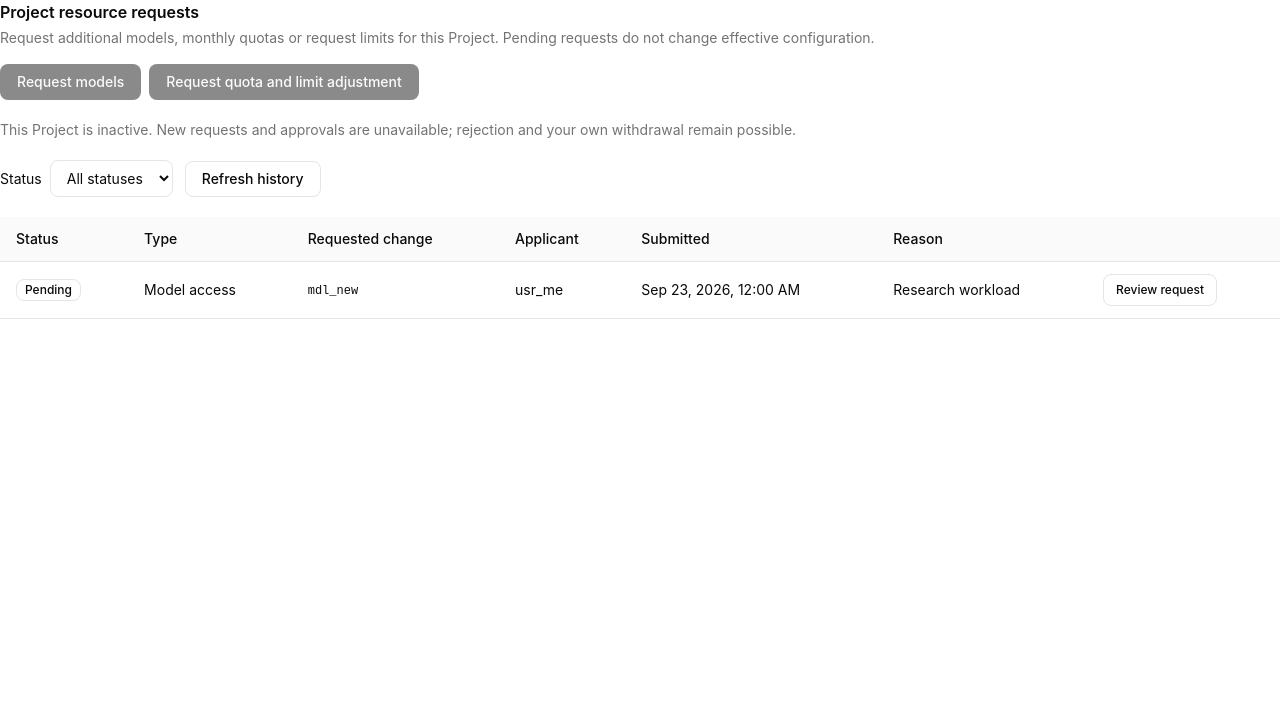
Test: Project model requests › prevents self approval and permits own withdrawal on an inactive Project
The image size is (1280, 720).
Click the button "Review request".
click(1160, 290)  # box [1103,274,1217,306]
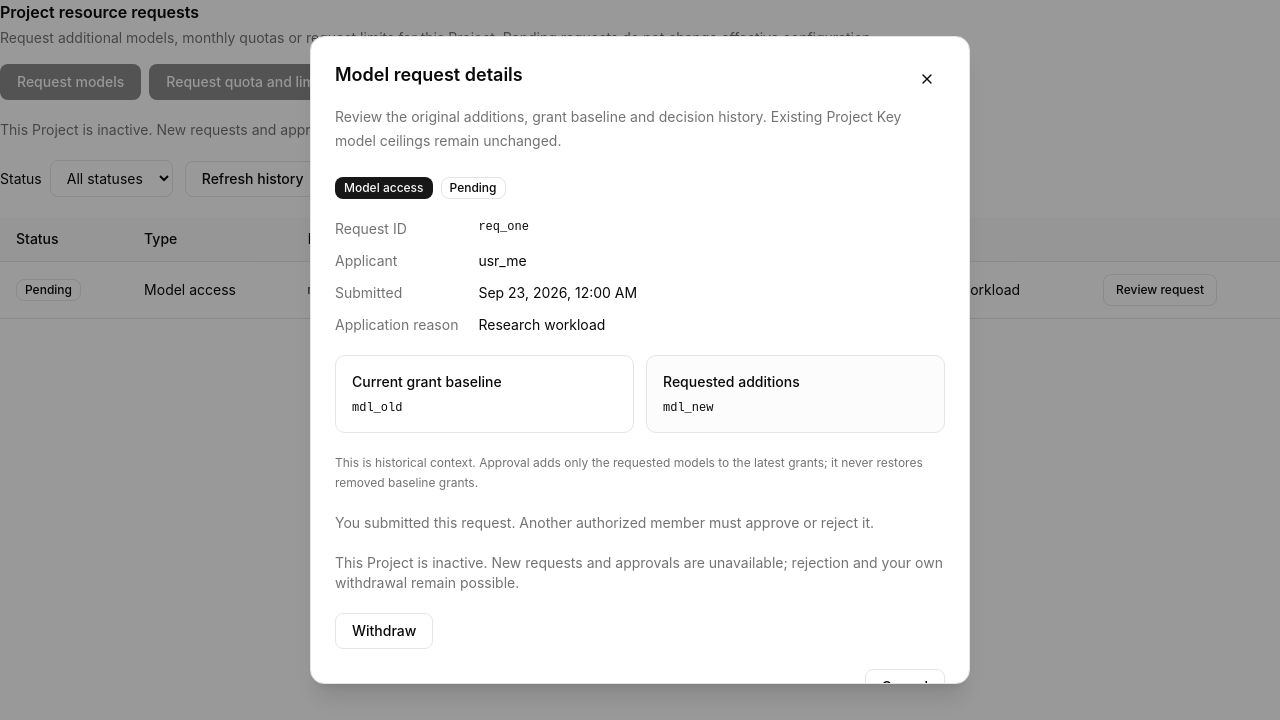
expect the button "Request models" is disabled: met, box [0,64,141,100]
expect the text "You submitted this request. Another authorized member must approve or reject it." is shown: met, box [335,513,945,533]
expect the button "Withdraw" is shown: met
Click the button "Withdraw".
click(384, 631)  # box [335,613,433,649]
(page scrolled)
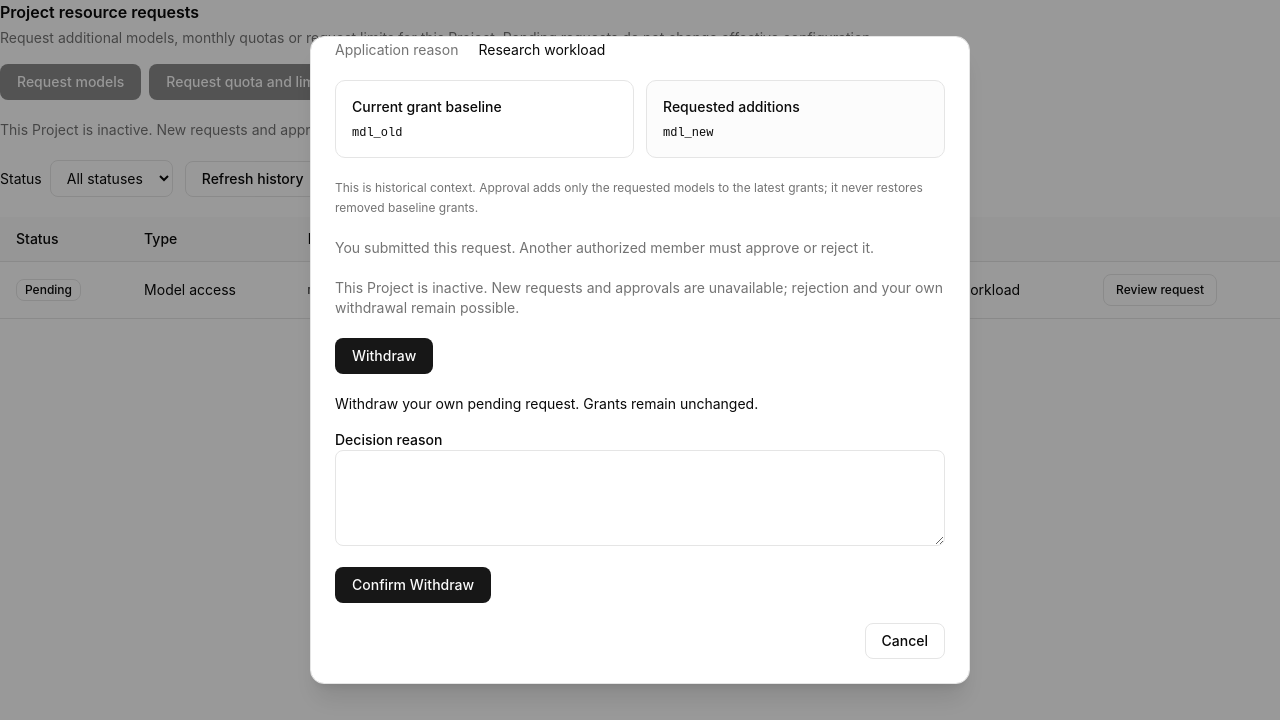
expect the button "Confirm Withdraw" is shown: met
Click the button "Confirm Withdraw".
click(413, 585)  # box [335,567,491,603]
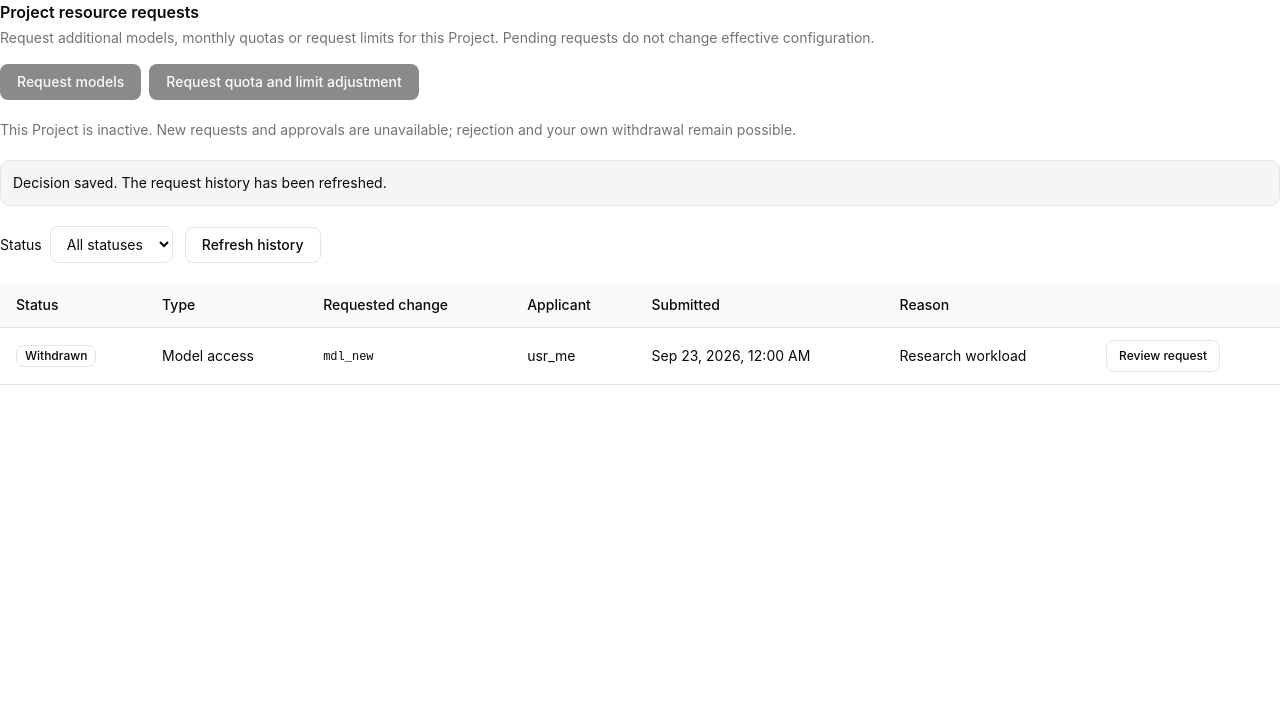
expect the text "Decision saved. The request history has been refreshed." is shown: met, box [0,160,1279,206]
